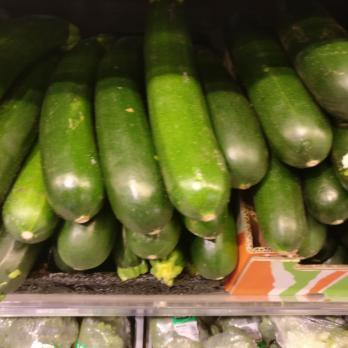Cucumber: (1, 2, 348, 289)
